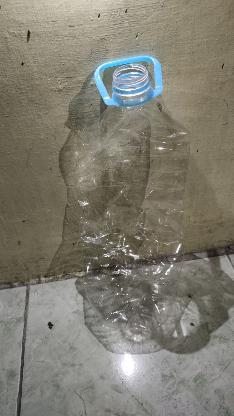Plastic Bottle: (74, 57, 199, 355)
